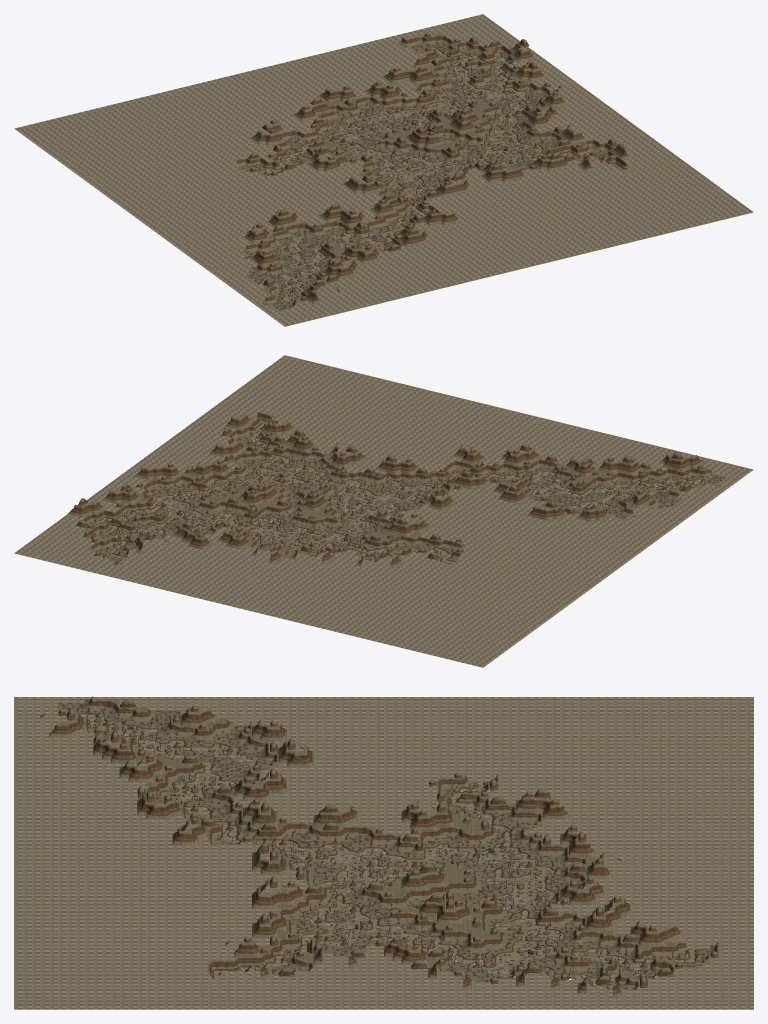
File: map_F05_04.glb
The picture shows the model from 3 angles, top to bottom: view 1: azimuth 30°, elevation 25°; view 2: azimuth 150°, elevation 25°; view 3: azimuth 270°, elevation 25°; orthographic projection. The views are drawn at different scales.
Visible parts, largest first — view 1: default_ground; view 2: default_ground; view 3: default_ground.
Boxes of the visible parts, x1=… form: default_ground: x1=14, y1=14, x2=753, y2=326; default_ground: x1=14, y1=355, x2=753, y2=667; default_ground: x1=14, y1=697, x2=753, y2=1009.
Size of the model in its own units: 2016 by 78.16 by 2016.
Materials: 236 (236 with a texture image).
